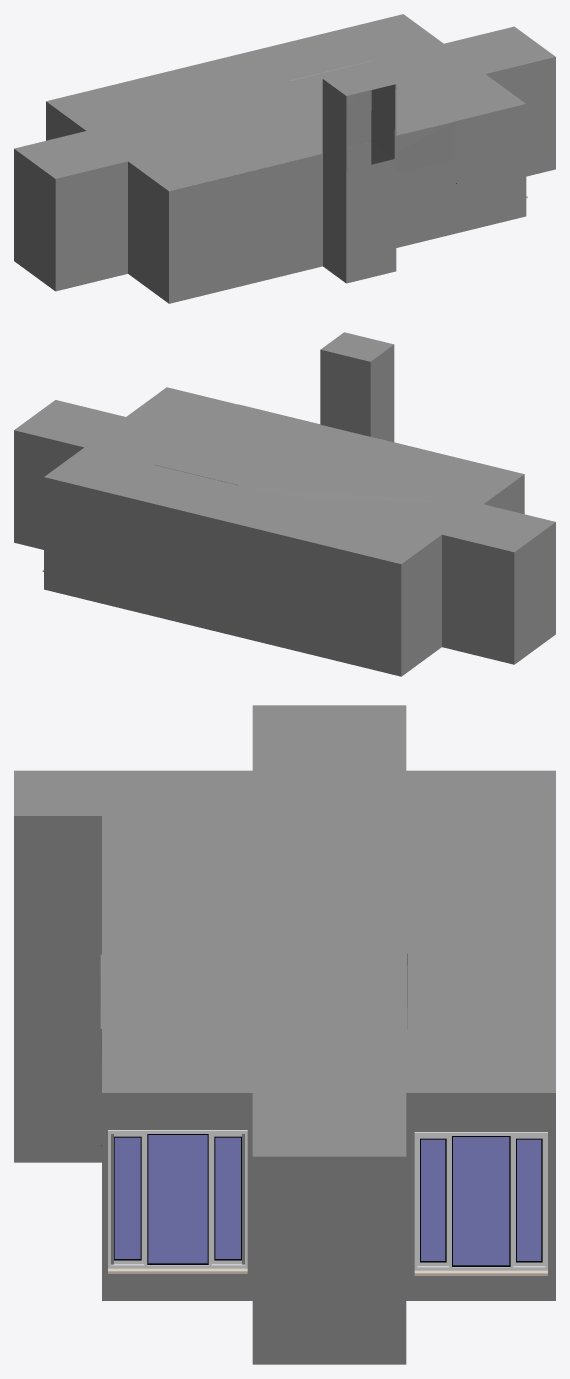
The model's file is ParumRestar-Level1 (1).fbx.
3 renders of one model, top to bottom at view 1: azimuth 30°, elevation 25°; view 2: azimuth 150°, elevation 25°; view 3: azimuth 270°, elevation 25°, orthographic. The views are drawn at different scales.
Parts seen in each view (by area): view 1: Level1, Level1.001; view 2: Level1, Level1.001; view 3: Level1.001, Level1, Window, Window.002.
Part boxes in pixels (left/top/right/bottom): Level1: left=14, top=57, right=555, bottom=303; Level1.001: left=14, top=14, right=555, bottom=190; Level1: left=14, top=345, right=555, bottom=676; Level1.001: left=14, top=332, right=555, bottom=564; Level1.001: left=14, top=705, right=555, bottom=1156; Level1: left=14, top=816, right=555, bottom=1364; Window: left=108, top=1130, right=247, bottom=1273; Window.002: left=414, top=1132, right=547, bottom=1275.
Size of the model in its own units: 2091 by 750 by 1061.
